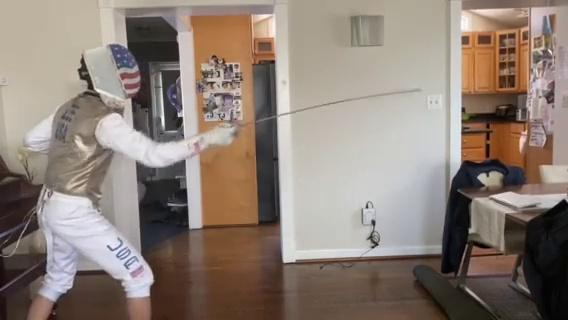blade-guard: (230, 116, 245, 140)
blade-tip: (377, 88, 425, 98)
fencing-blade: (215, 89, 425, 146)
